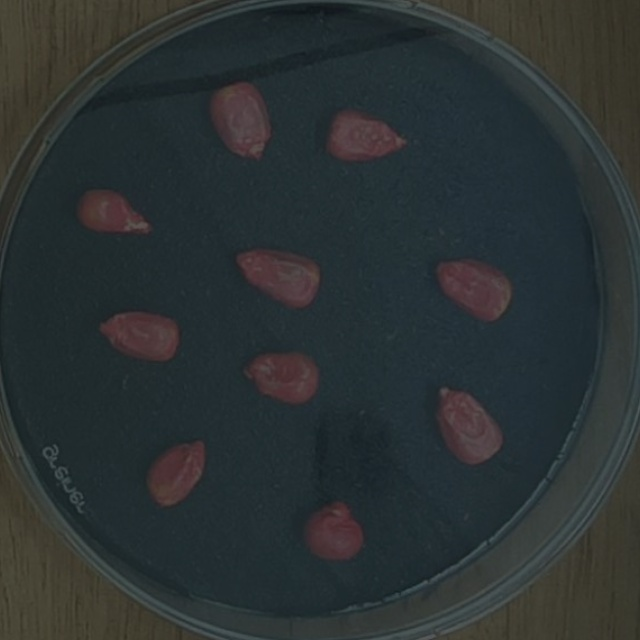Zea mays: (226, 237, 327, 317), (428, 378, 510, 472), (200, 73, 278, 169), (427, 251, 518, 327), (87, 303, 186, 371), (318, 102, 412, 170), (136, 432, 212, 515), (234, 343, 325, 412), (68, 180, 161, 244), (293, 491, 370, 568)
